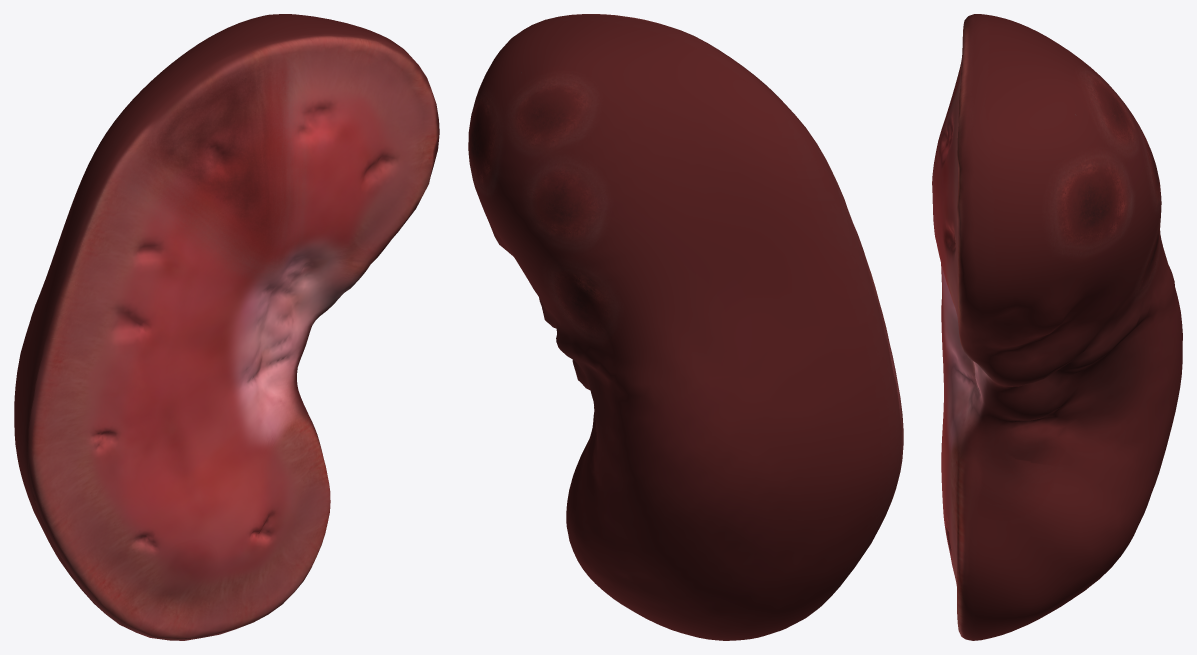
Rendered from 6_infarktus.glb.
3 renders of one model, left to right at view 1: azimuth 30°, elevation 25°; view 2: azimuth 150°, elevation 25°; view 3: azimuth 270°, elevation 25°, orthographic. The views are drawn at different scales.
Parts seen in each view (by area): view 1: infarktus; view 2: infarktus; view 3: infarktus.
Part boxes in pixels (bbox=[...]): infarktus: bbox=[14, 14, 439, 640]; infarktus: bbox=[468, 14, 903, 640]; infarktus: bbox=[932, 14, 1182, 640].
Size of the model in its own units: 0.422 by 0.5721 by 0.2104.
Materials: 1 (1 with a texture image).
